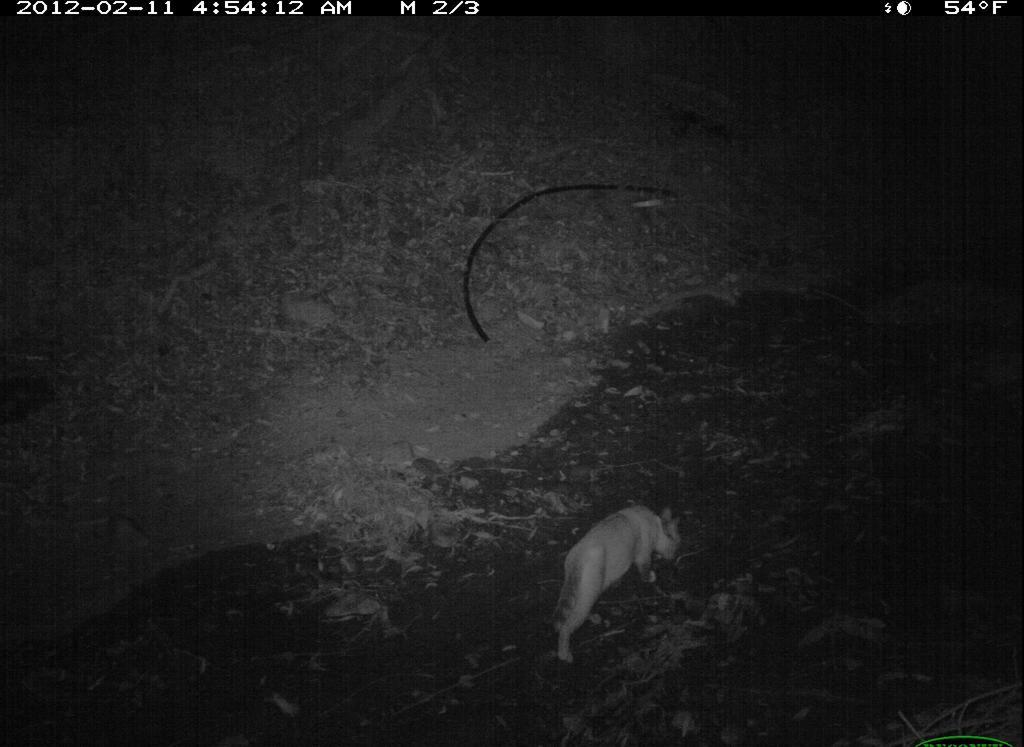cat: (536, 482, 683, 675)
